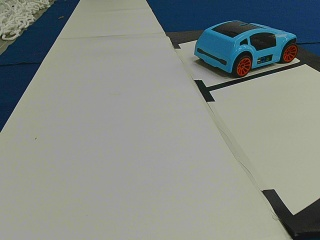car: (194, 20, 297, 77)
